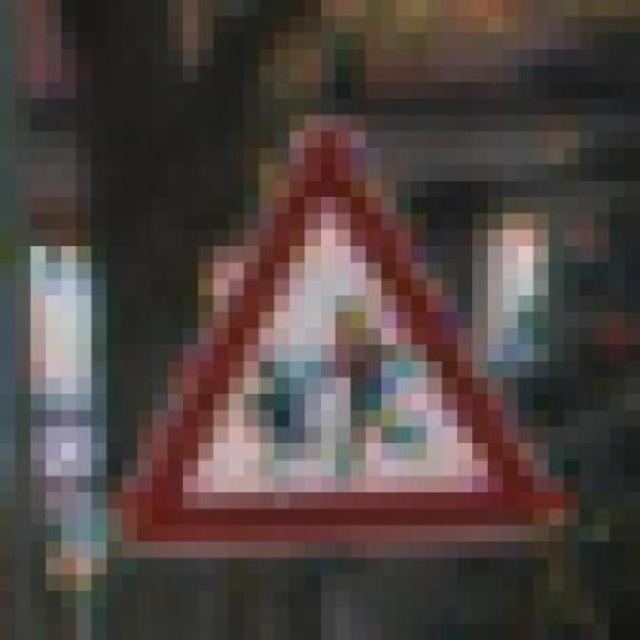Beware of children: (89, 98, 576, 574)
